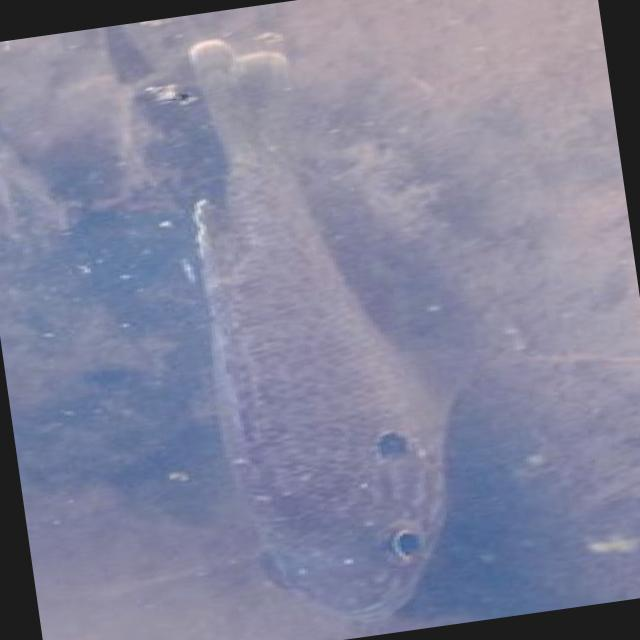Gunes Levregi: (134, 1, 511, 640)
